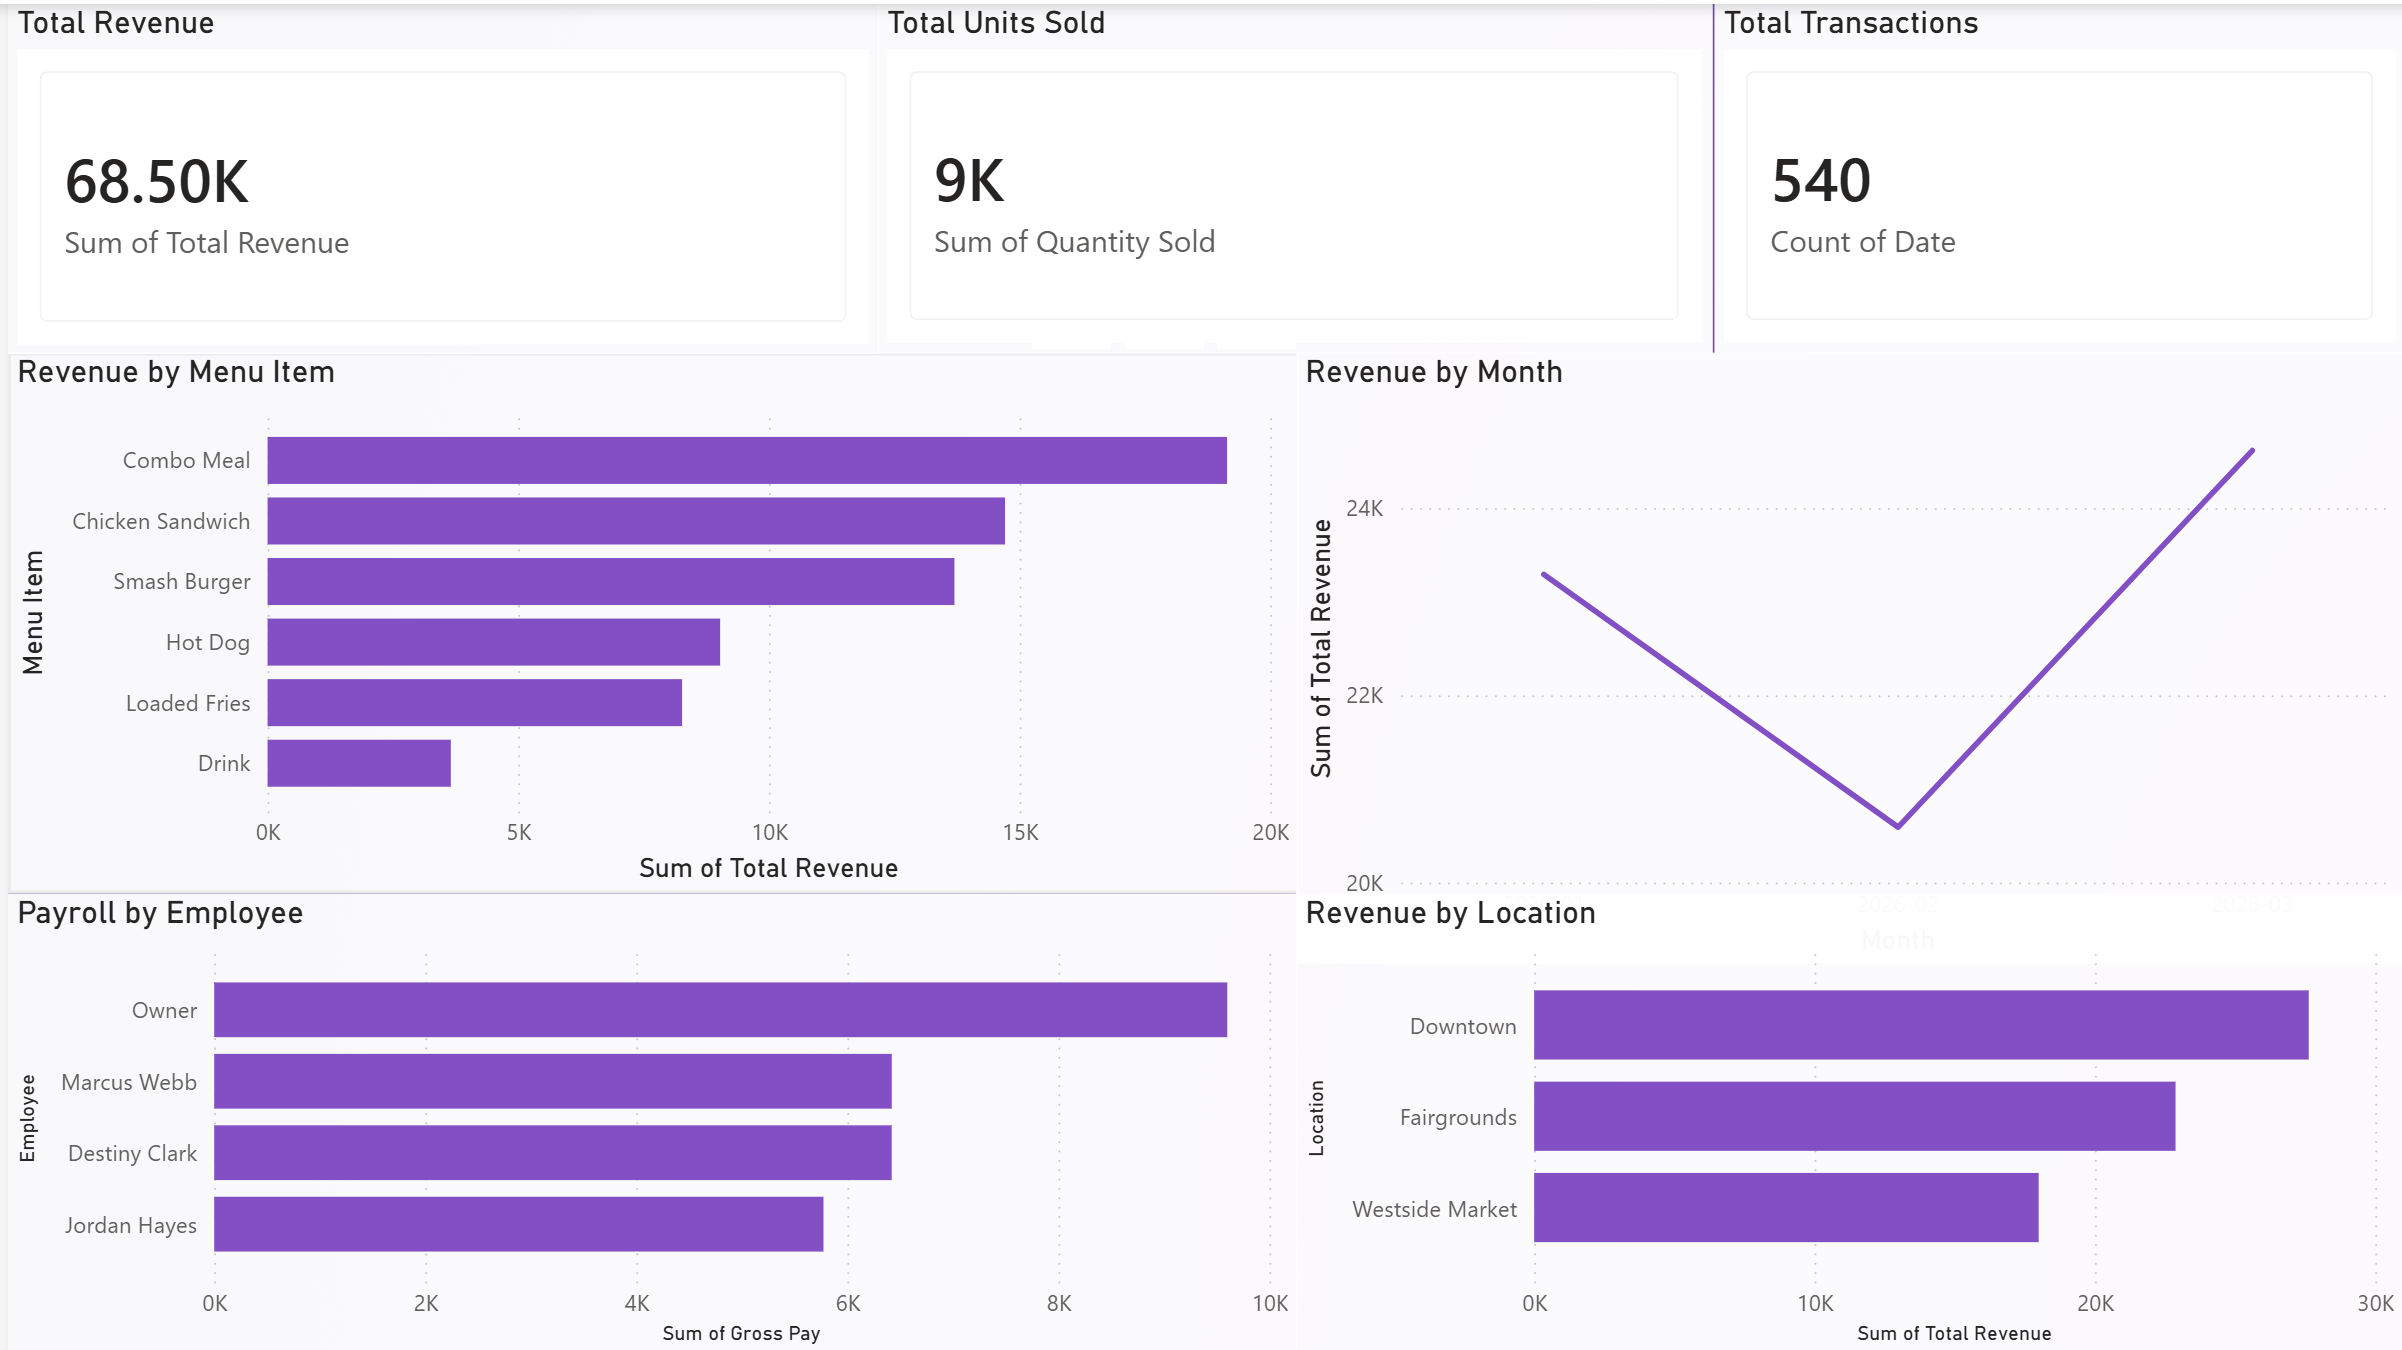

Layout of this report page (visuals, bound fields, positions):
{"tool":"powerbi","page":{"name":"Page 1","canvas":[1280,720],"ordinal":0},"visuals":[{"type":"clusteredBarChart","title":"Revenue by Menu Item","fields":{"Category":["Sales.Menu Item"],"Y":["Sum(Sales.Total Revenue)"]},"box":[0,186.9,689.3,288.1],"z":0},{"type":"lineChart","title":"Revenue by Month","fields":{"Y":["Sum(Sales.Total Revenue)"],"Category":["Sales.monthyear"]},"box":[688.9,186.6,591.4,326.6],"z":1},{"type":"cardVisual","title":"Total Revenue","fields":{"Data":["Sum(Sales.Total Revenue)"]},"box":[0,0,465.5,187.1],"z":2},{"type":"cardVisual","title":"Total Units Sold","fields":{"Data":["Sum(Sales.Quantity Sold)"]},"box":[465.2,0,446,186.6],"z":3},{"type":"cardVisual","title":"Total Transactions","fields":{"Data":["CountNonNull(Sales.Date)"]},"box":[911.2,0,369.1,186.6],"z":4},{"type":"clusteredBarChart","title":"Payroll by Employee","fields":{"Category":["Payroll.Employee"],"Y":["Sum(Payroll.Gross Pay)"]},"box":[0,474.8,688.9,245.6],"z":5},{"type":"clusteredBarChart","title":"Revenue by Location","fields":{"Category":["Sales.Location"],"Y":["Sum(Sales.Total Revenue)"]},"box":[688.9,474.8,591.4,245.6],"z":6}]}

Visuals, with their boxes in screenshot pixels (x1, y1, x2, y2), scaled from the page's 1280x720 canvas onto the 2402x1350 screenshot:
"Revenue by Menu Item" clusteredBarChart: {"x1": 0, "y1": 350, "x2": 1294, "y2": 891}
"Revenue by Month" lineChart: {"x1": 1293, "y1": 350, "x2": 2401, "y2": 962}
"Total Revenue" cardVisual: {"x1": 0, "y1": 0, "x2": 874, "y2": 351}
"Total Units Sold" cardVisual: {"x1": 873, "y1": 0, "x2": 1710, "y2": 350}
"Total Transactions" cardVisual: {"x1": 1710, "y1": 0, "x2": 2401, "y2": 350}
"Payroll by Employee" clusteredBarChart: {"x1": 0, "y1": 890, "x2": 1293, "y2": 1349}
"Revenue by Location" clusteredBarChart: {"x1": 1293, "y1": 890, "x2": 2401, "y2": 1349}
